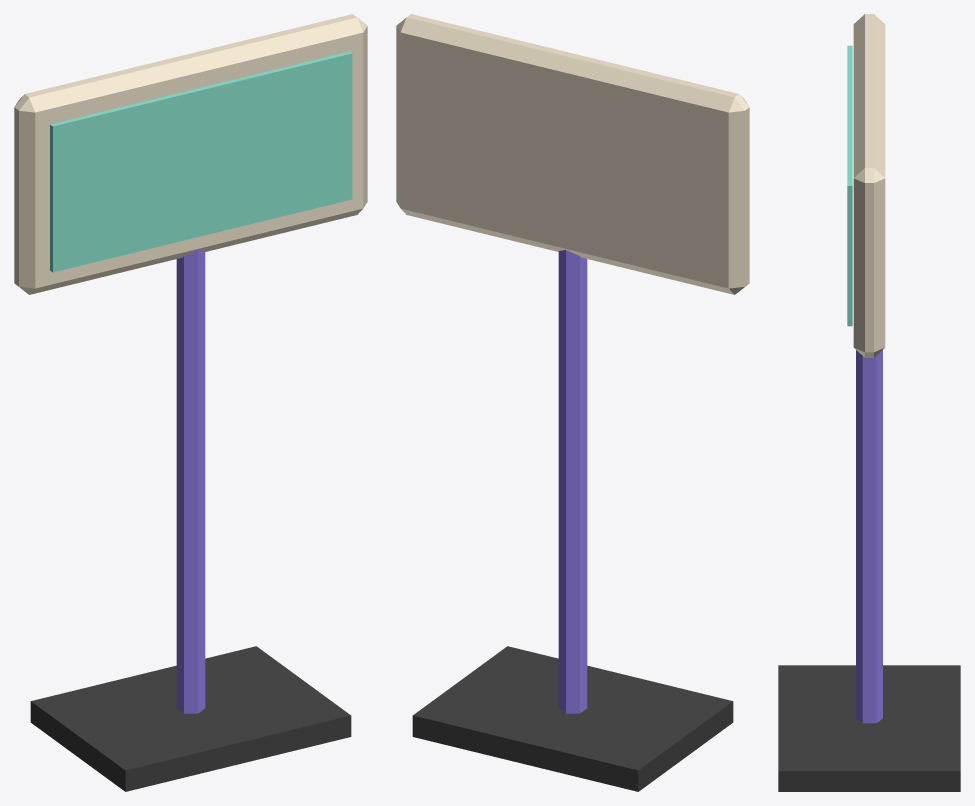
3 views of the same model, side by side, from view 1: azimuth 30°, elevation 25°; view 2: azimuth 150°, elevation 25°; view 3: azimuth 270°, elevation 25° (orthographic). The views are drawn at different scales.
Visible parts, largest first — view 1: Inset, Sign panel, Foot, Stand; view 2: Sign panel, Foot, Stand; view 3: Foot, Sign panel, Stand, Inset.
Part boxes in pixels (x1,y1,x2,y2): Inset: [50, 51, 352, 272]; Sign panel: [14, 14, 367, 294]; Foot: [30, 646, 351, 791]; Stand: [176, 250, 205, 713]; Sign panel: [396, 14, 749, 294]; Foot: [412, 646, 733, 791]; Stand: [558, 250, 587, 713]; Foot: [778, 665, 960, 791]; Sign panel: [853, 14, 885, 357]; Stand: [856, 350, 882, 723]; Inset: [847, 45, 852, 326].
Bounding box in the file's own units: 0.85 × 1.57 × 0.4.
1 material, 1 textured.
